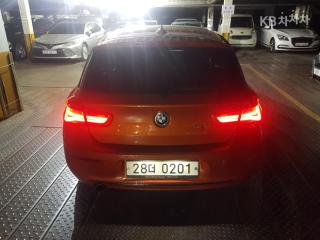0: (160, 162, 170, 174), (176, 162, 185, 174)
1: (185, 163, 192, 175)
2: (131, 162, 140, 175), (169, 163, 176, 175)
8: (140, 162, 148, 174)
plate: (122, 156, 201, 181)
더: (147, 163, 156, 175)
